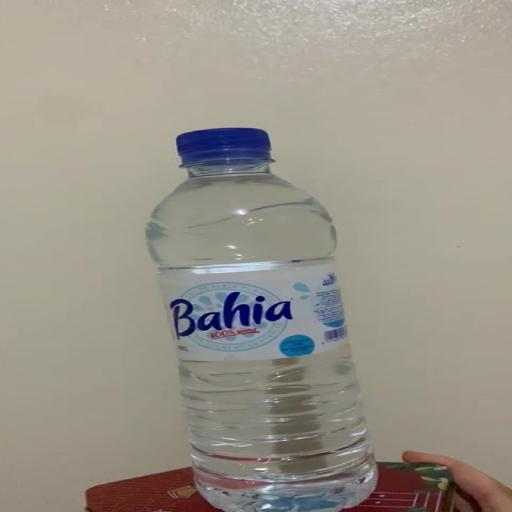bouteille conformite: (175, 201, 203, 221), (209, 249, 243, 262), (285, 235, 303, 254), (253, 240, 267, 258), (169, 244, 181, 252), (333, 175, 341, 182), (308, 242, 320, 246), (279, 255, 295, 258), (304, 254, 315, 258), (224, 244, 231, 250)
